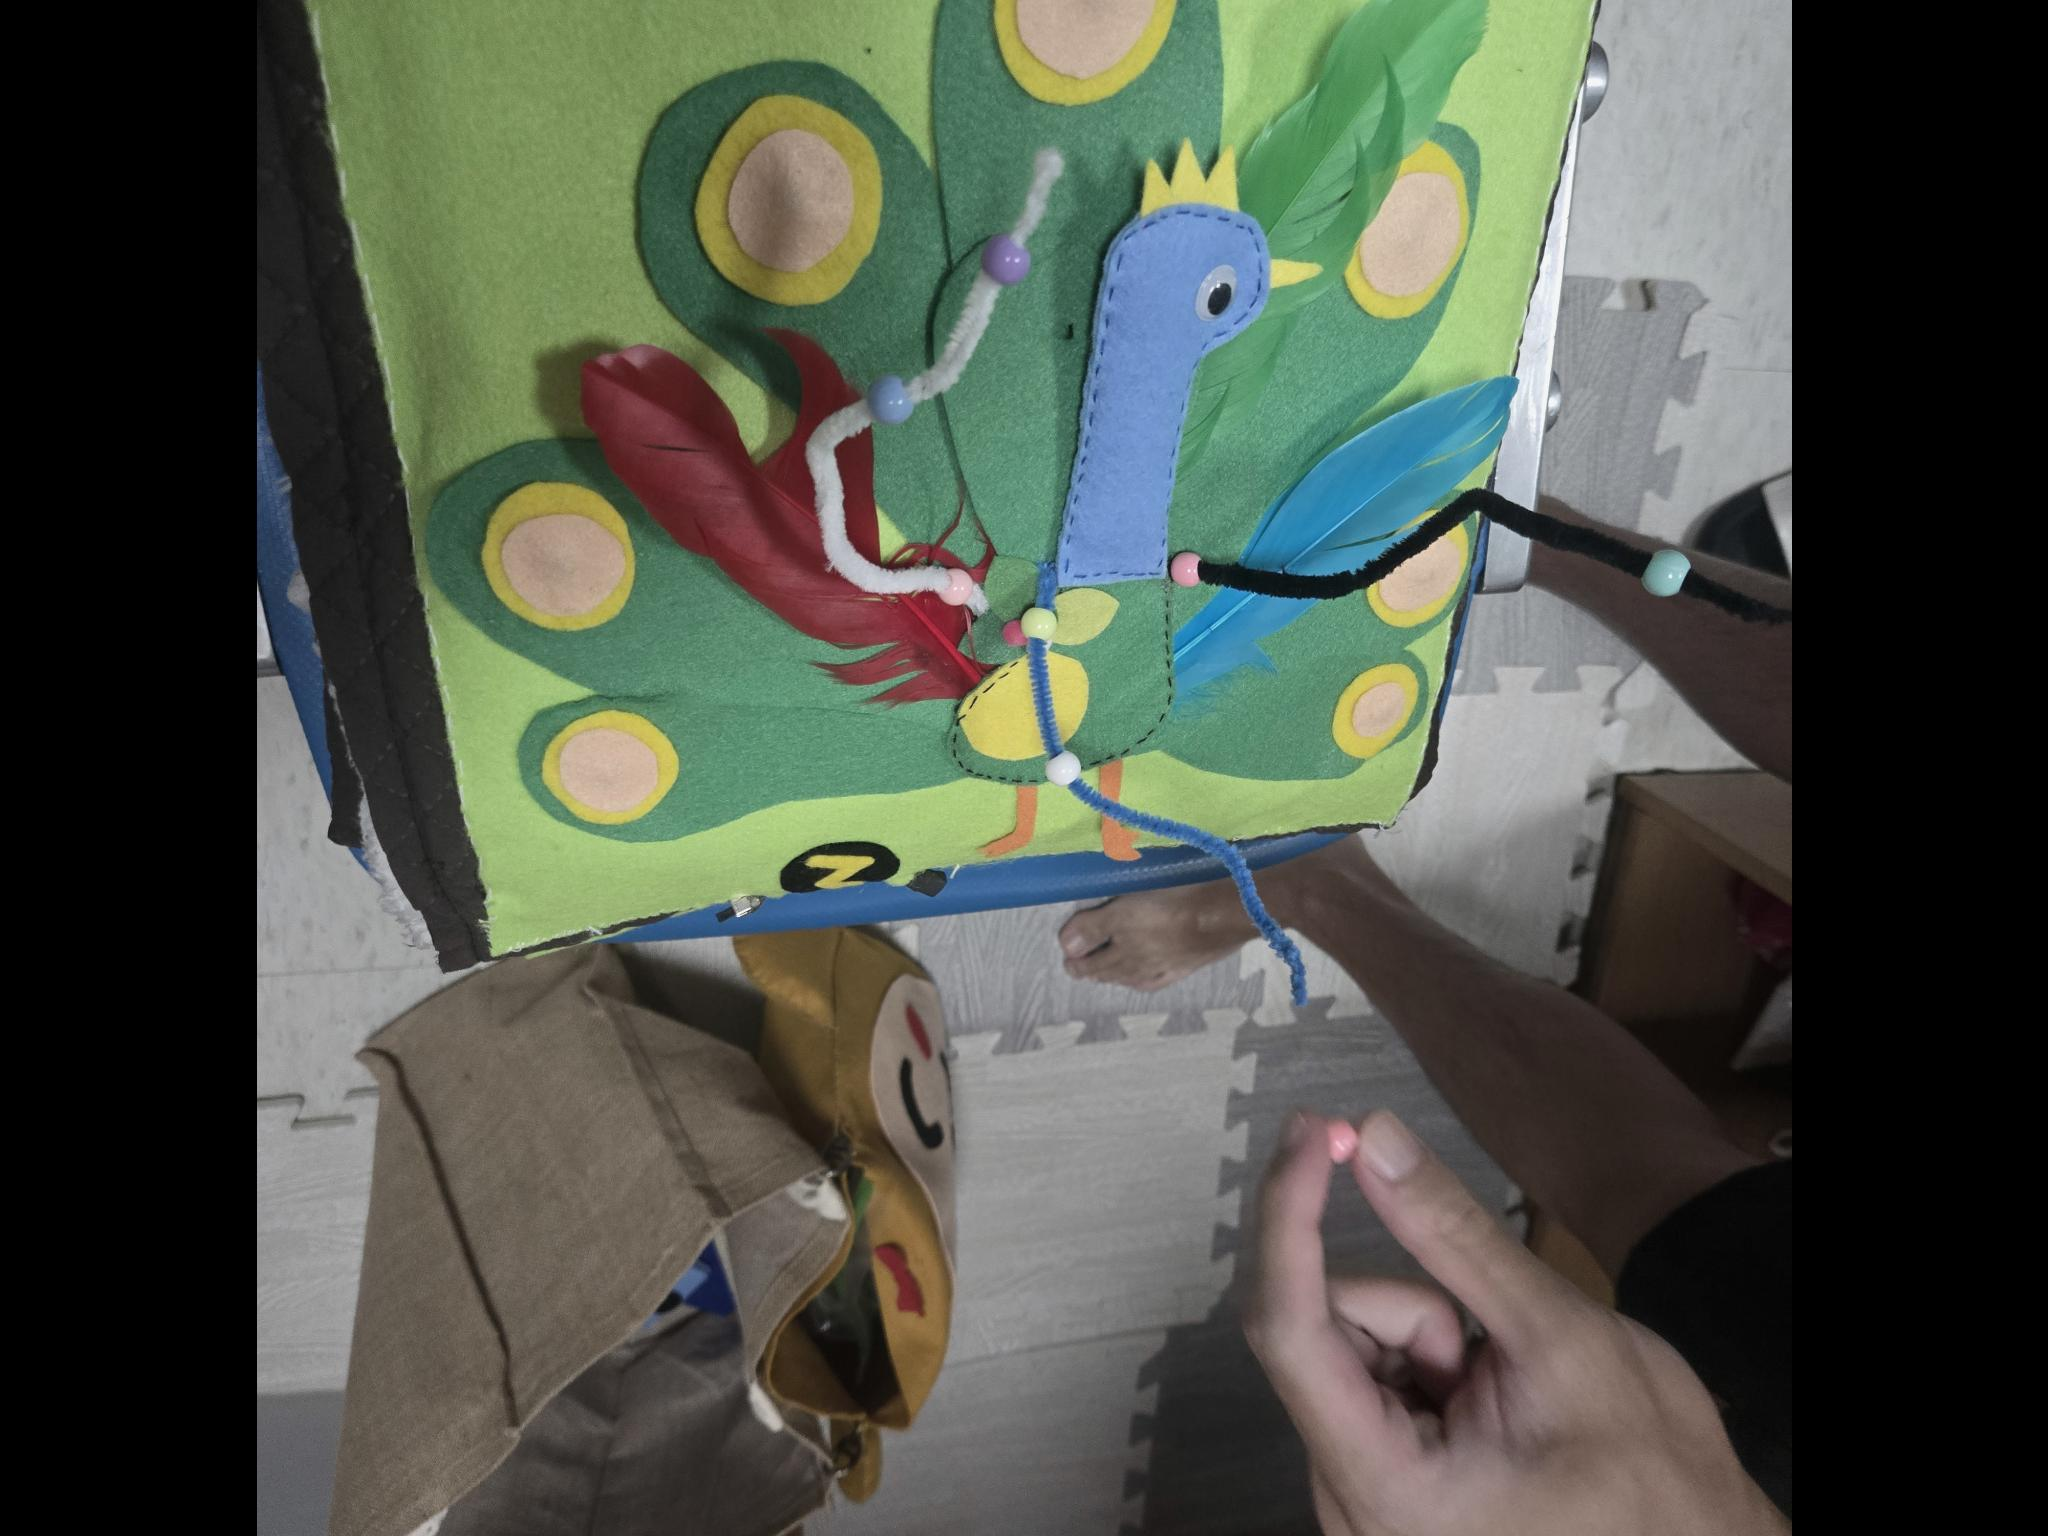bead: (1637, 537, 1695, 599), (864, 373, 916, 424), (985, 232, 1034, 281), (1047, 749, 1090, 794), (934, 561, 972, 608), (1153, 553, 1222, 578)
